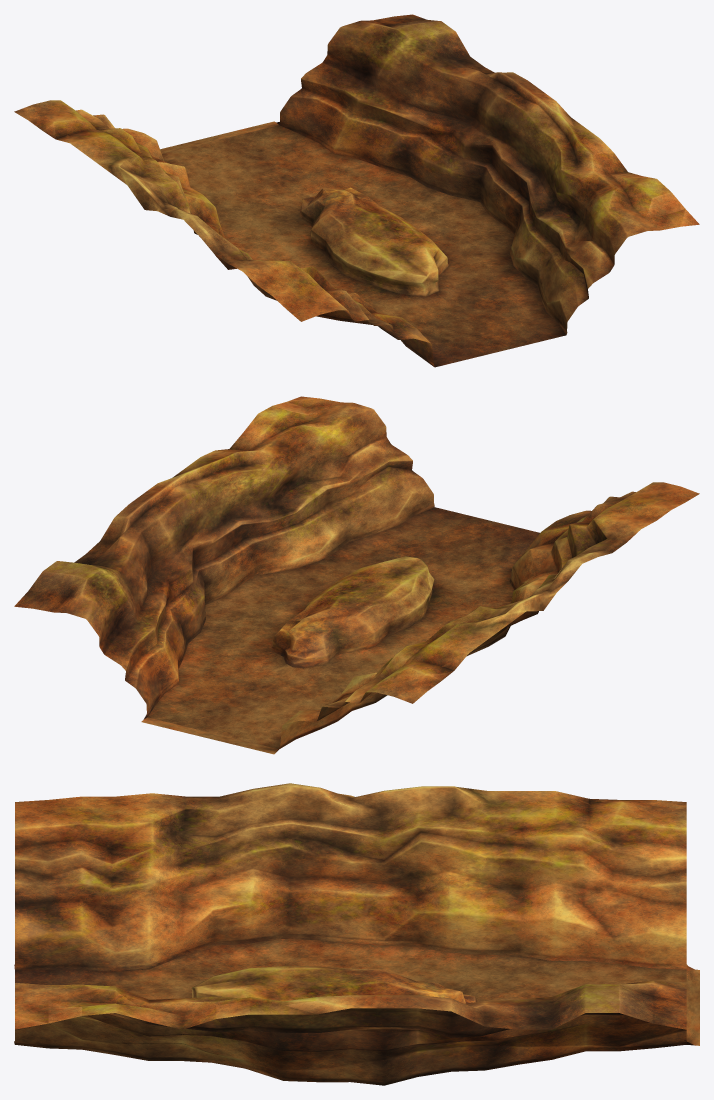
Rendered from chunk-1divide.obj.
3 renders of one model, top to bottom at view 1: azimuth 30°, elevation 25°; view 2: azimuth 150°, elevation 25°; view 3: azimuth 270°, elevation 25°, orthographic. The views are drawn at different scales.
Parts seen in each view (by area): view 1: 1Divide; view 2: 1Divide; view 3: 1Divide.
Part boxes in pixels (bbox=[...]): 1Divide: bbox=[14, 14, 699, 367]; 1Divide: bbox=[14, 396, 699, 754]; 1Divide: bbox=[14, 783, 699, 1085].
Size of the model in its own units: 241 by 58.13 by 306.
1 material, 1 textured.
